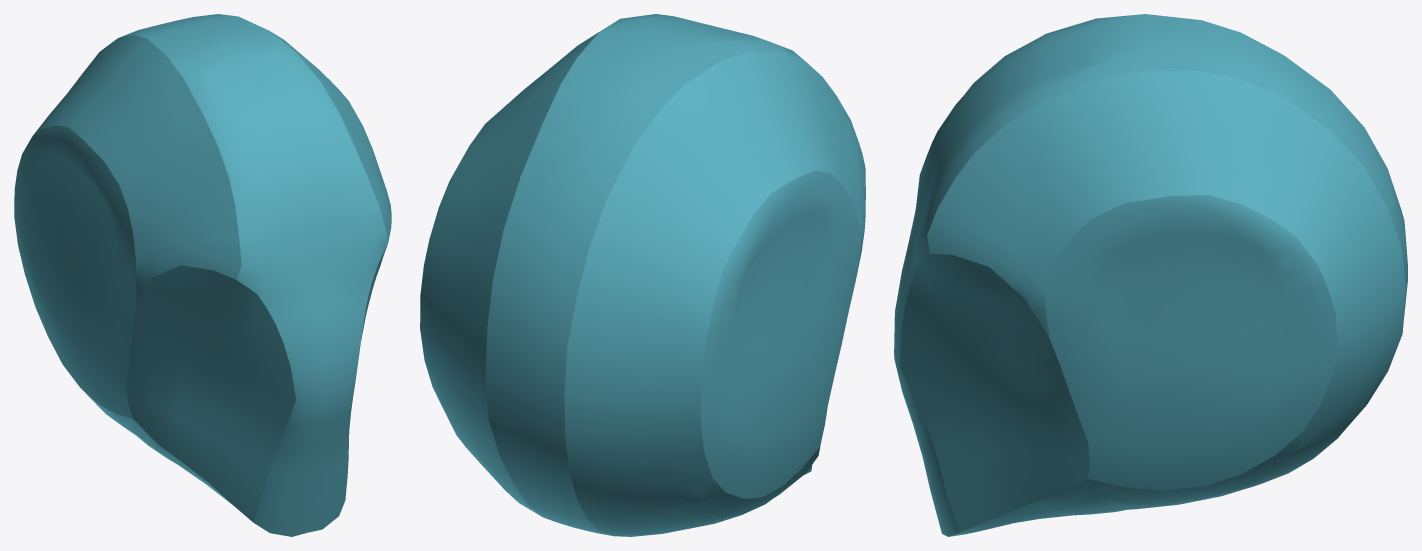
The model's file is Head.fbx.
The picture shows the model from 3 angles, left to right: view 1: azimuth 30°, elevation 25°; view 2: azimuth 150°, elevation 25°; view 3: azimuth 270°, elevation 25°; orthographic projection. The views are drawn at different scales.
Parts seen in each view (by area): view 1: Alpha_Surface.002; view 2: Alpha_Surface.002; view 3: Alpha_Surface.002.
Part boxes in pixels (left/top/right/bottom): Alpha_Surface.002: left=14, top=14, right=391, bottom=536; Alpha_Surface.002: left=420, top=14, right=865, bottom=536; Alpha_Surface.002: left=894, top=14, right=1407, bottom=536.
Size of the model in its own units: 16.01 by 25.86 by 24.75.
